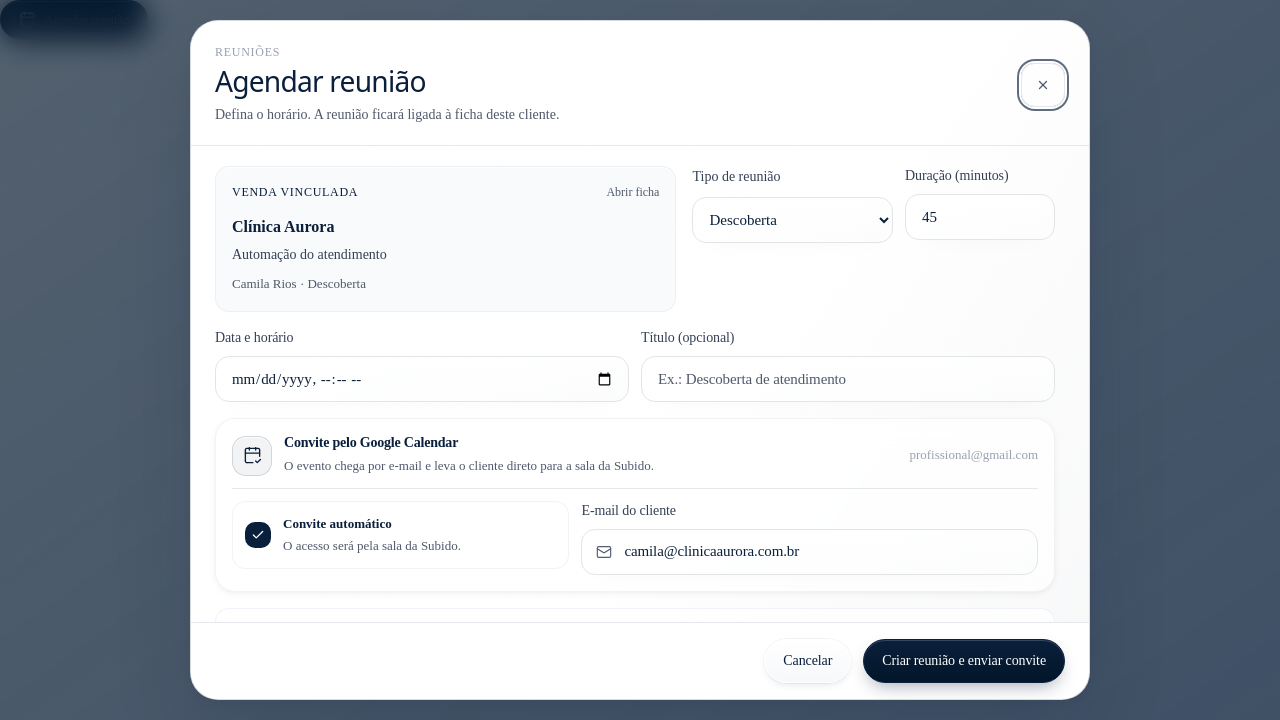
it: FormularioAgendarCall › confere antes do convite, mostra o conflito e descarta confirmação quando a data muda
In the field labelled "Data e horário": x=422, y=379 x1=230 y1=368 x2=614 y2=391, type "2099-11-10T10:30"
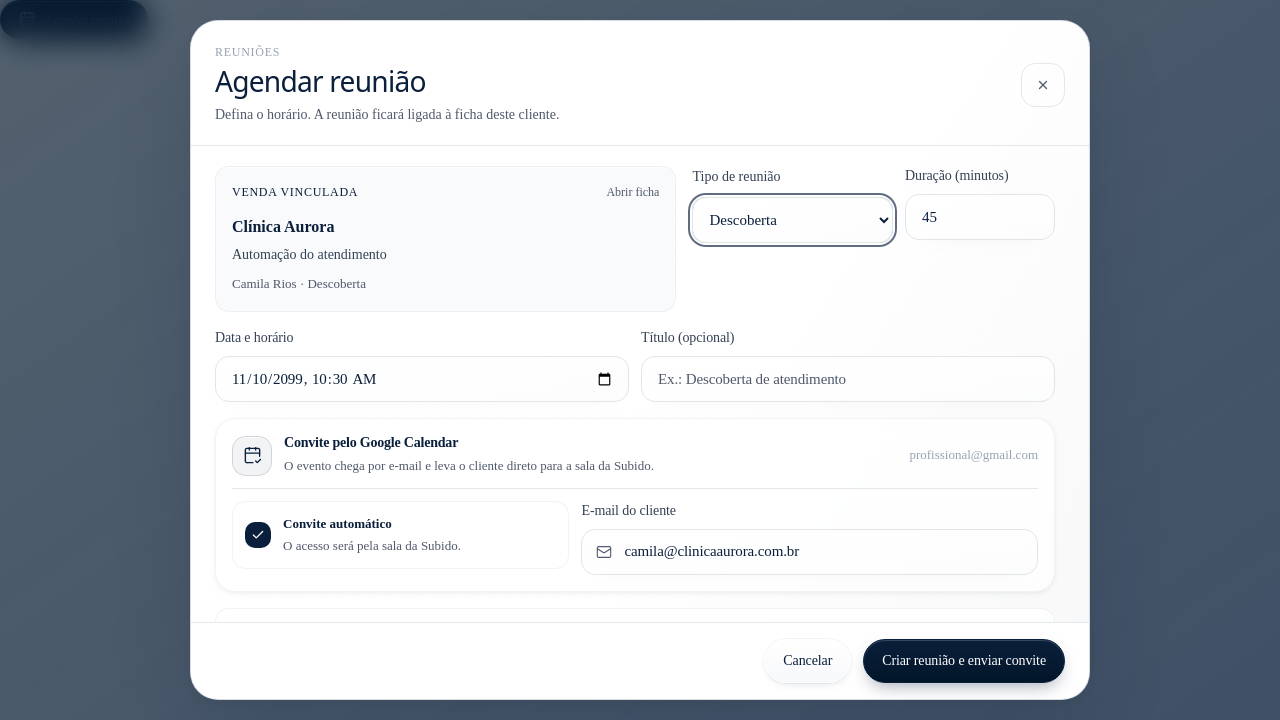
Click the button "Criar reunião e enviar convite": x=964, y=661 x1=863 y1=639 x2=1065 y2=683
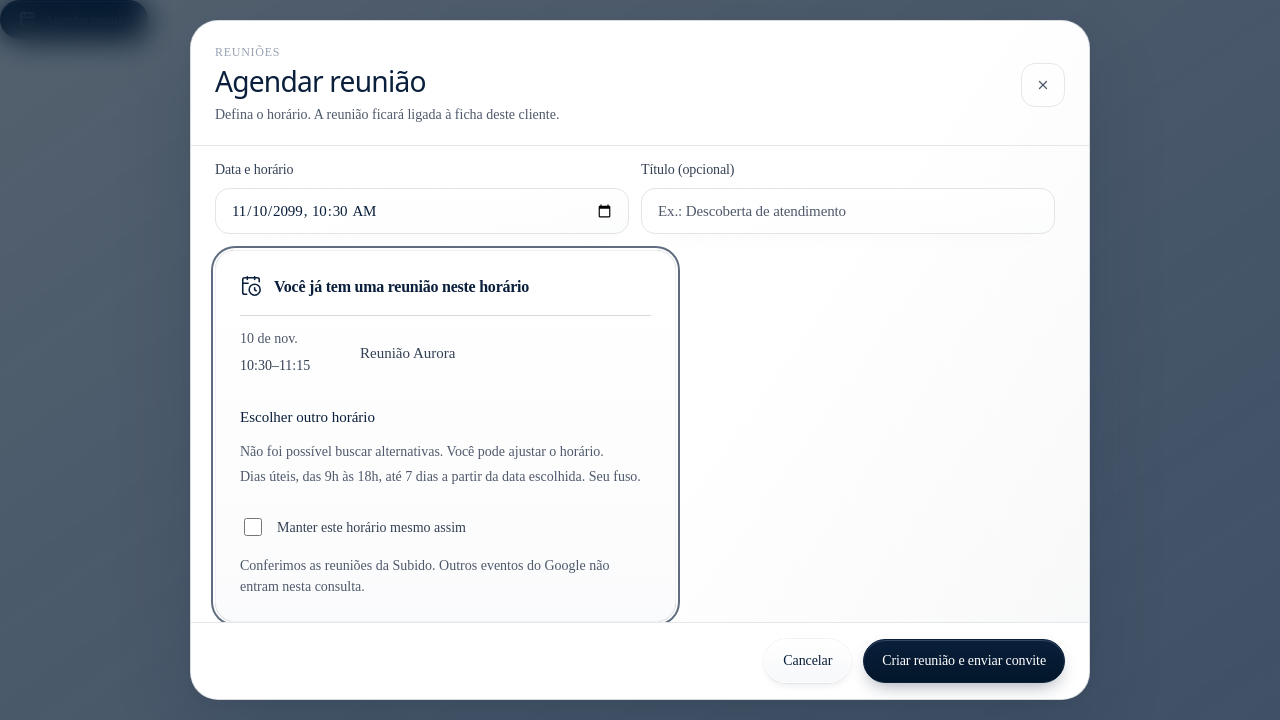
Now the checkbox labelled "Manter este horário mesmo assim" is not checked
Click the checkbox labelled "Manter este horário mesmo assim": x=253, y=527 x1=244 y1=518 x2=262 y2=536
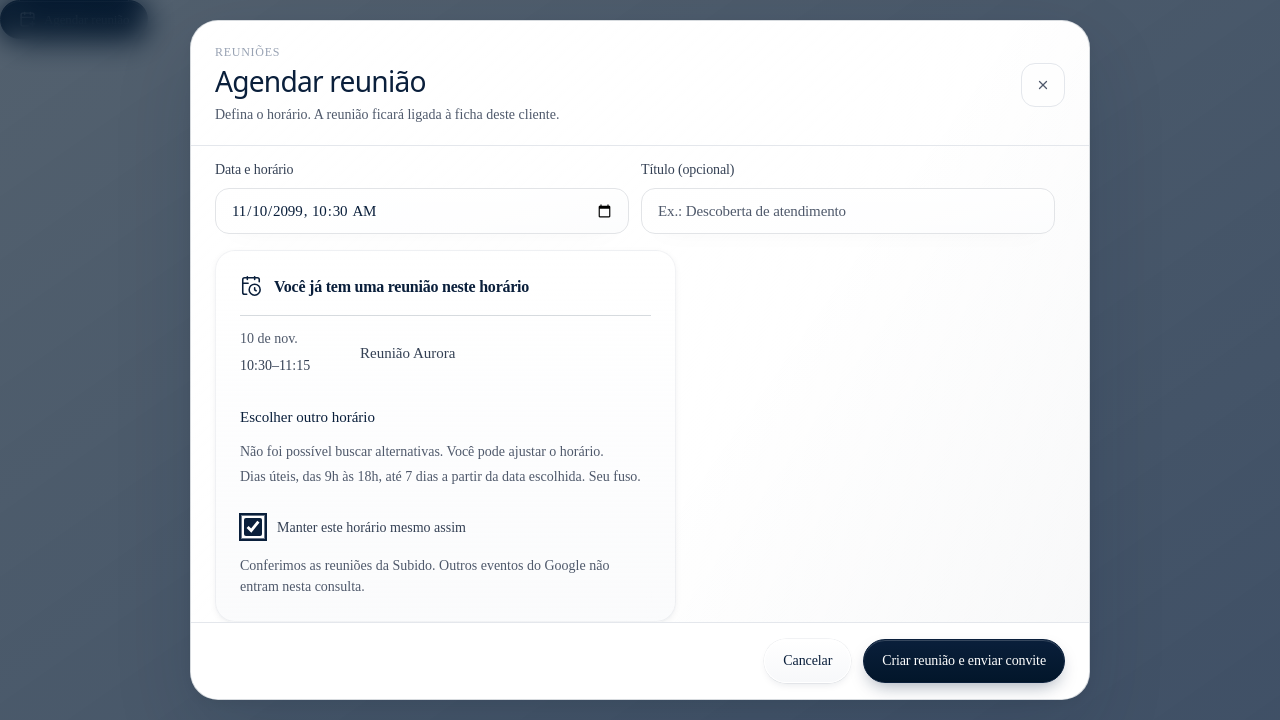
Replace the text in the field labelled "Data e horário" with "2099-11-10T16:00": x=422, y=211 x1=230 y1=200 x2=614 y2=223
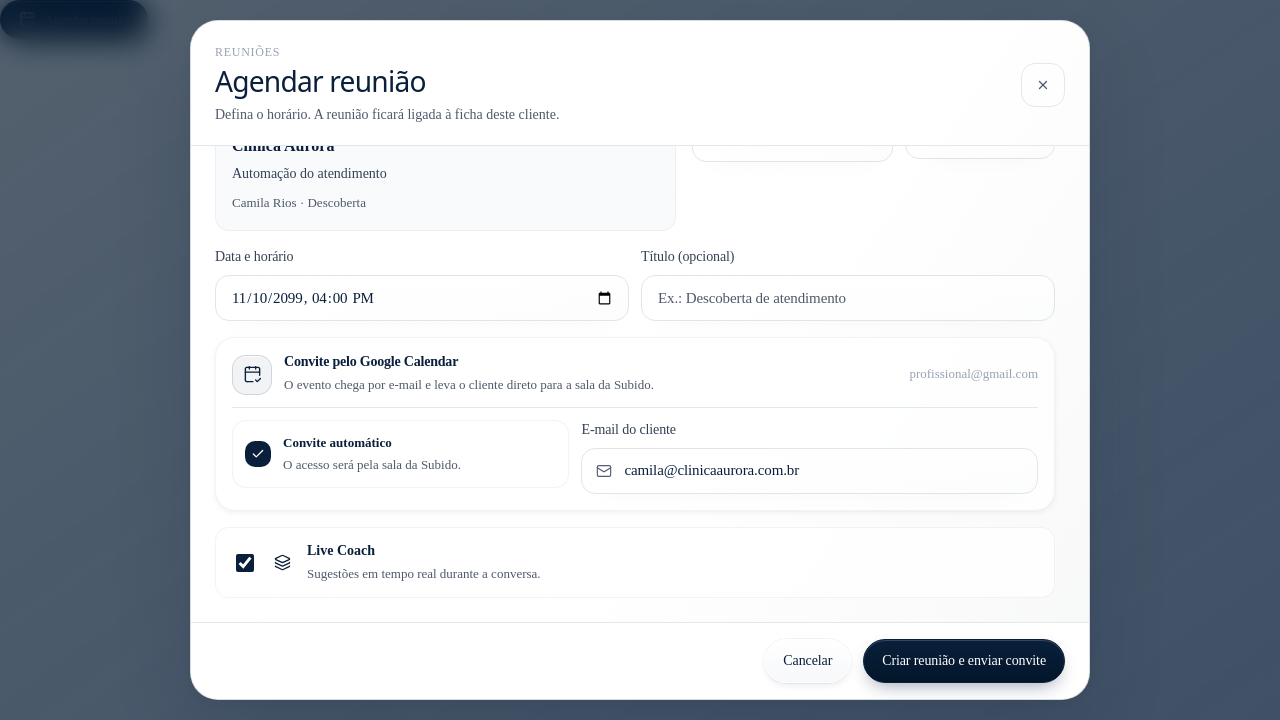
Now the heading "Você já tem uma reunião neste horário" is gone
Replace the text in the field labelled "Data e horário" with "2099-11-10T10:30": x=422, y=298 x1=230 y1=286 x2=614 y2=310
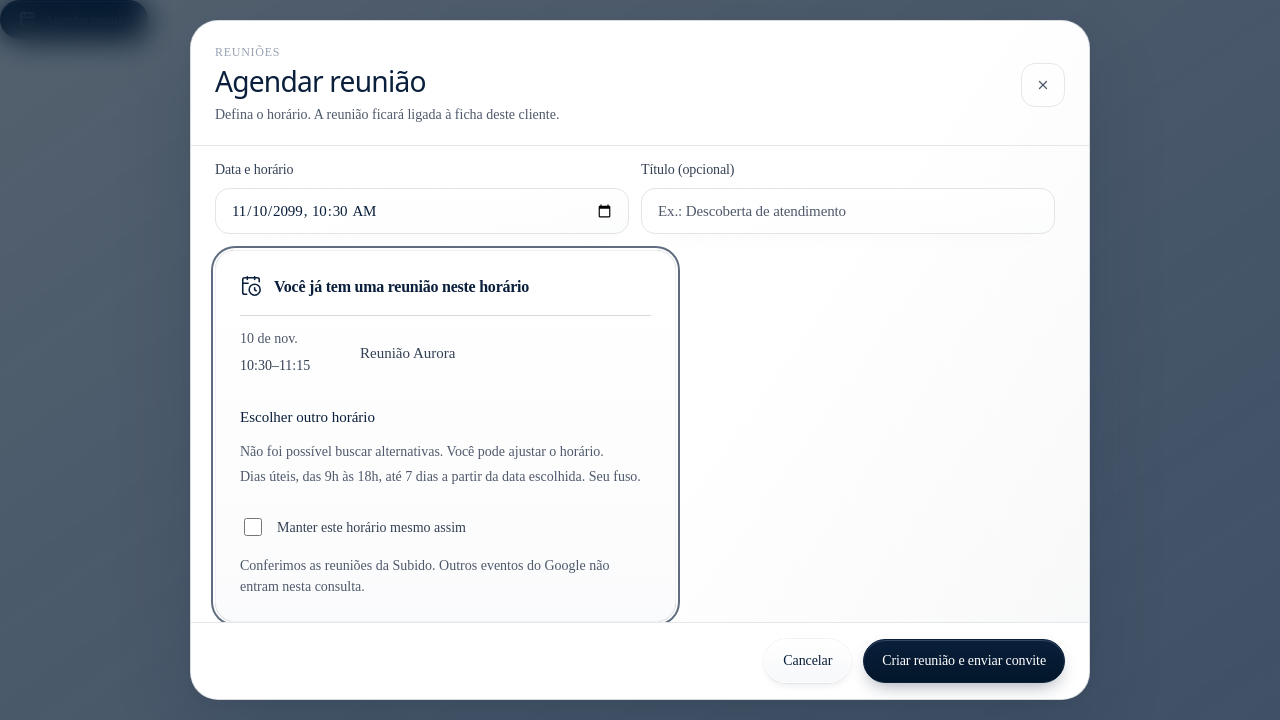
Now the checkbox labelled "Manter este horário mesmo assim" is not checked, box x1=244 y1=518 x2=262 y2=536
